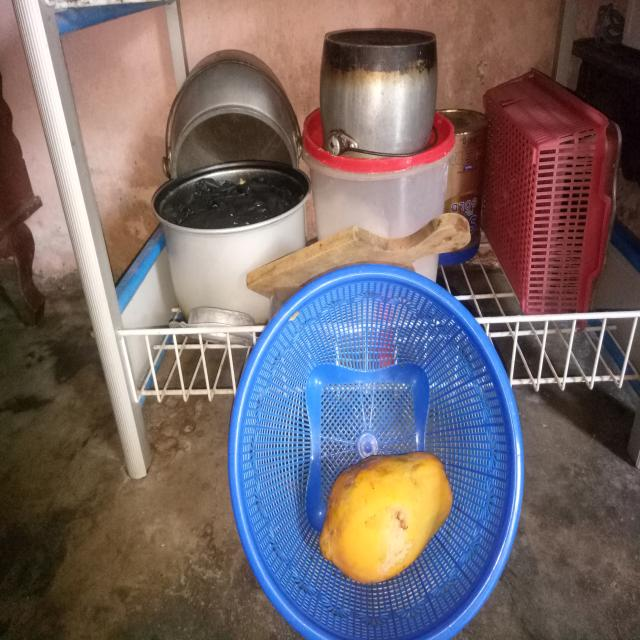Pepaya rippen: (297, 443, 449, 580)
